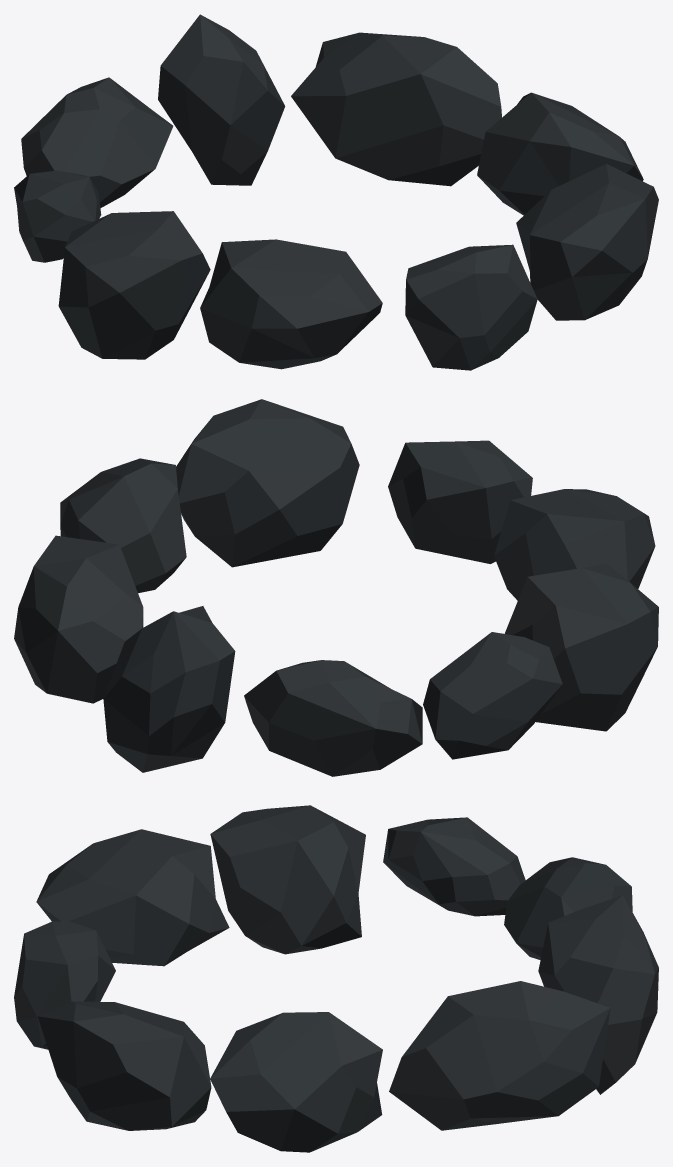
Rendered from Geo_StoneRing.fbx.
3 views of the same model, one above another, from view 1: azimuth 30°, elevation 25°; view 2: azimuth 150°, elevation 25°; view 3: azimuth 270°, elevation 25° (orthographic). The views are drawn at different scales.
Visible parts, largest first — view 1: StoneRing; view 2: StoneRing; view 3: StoneRing.
Boxes of the visible parts, <box> form: StoneRing: <box>14,14,658,370</box>; StoneRing: <box>14,399,658,776</box>; StoneRing: <box>14,805,658,1152</box>.
Bounding box in the file's own units: 112 × 33.3 × 108.
